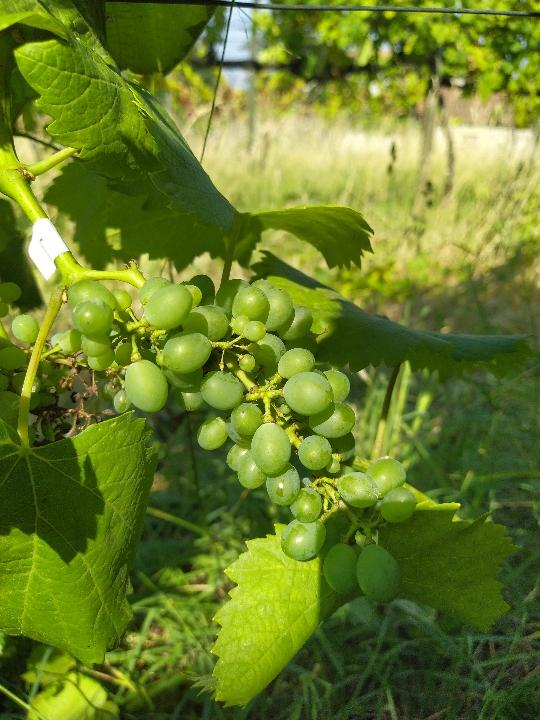grape: (50, 270, 418, 610)
